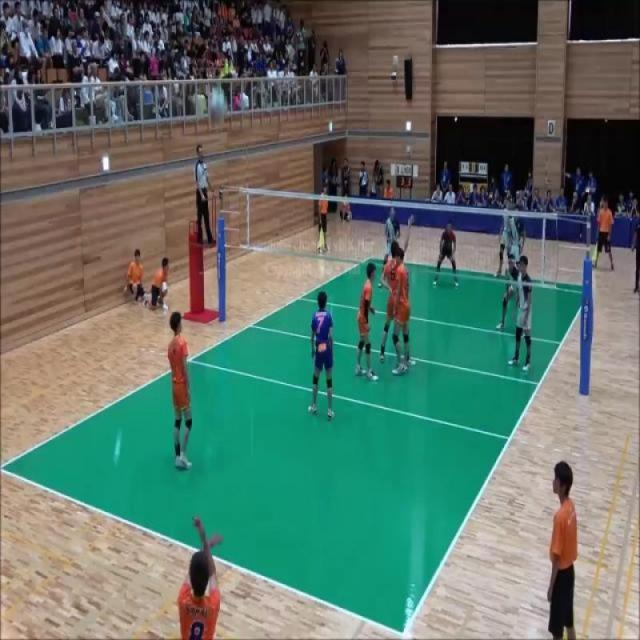volleyball: (206, 86, 229, 131)
